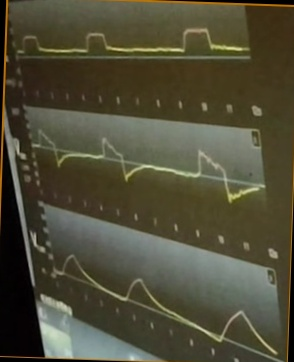Accumulation Flow: (34, 125, 261, 204)
Volume: (53, 251, 277, 352)
